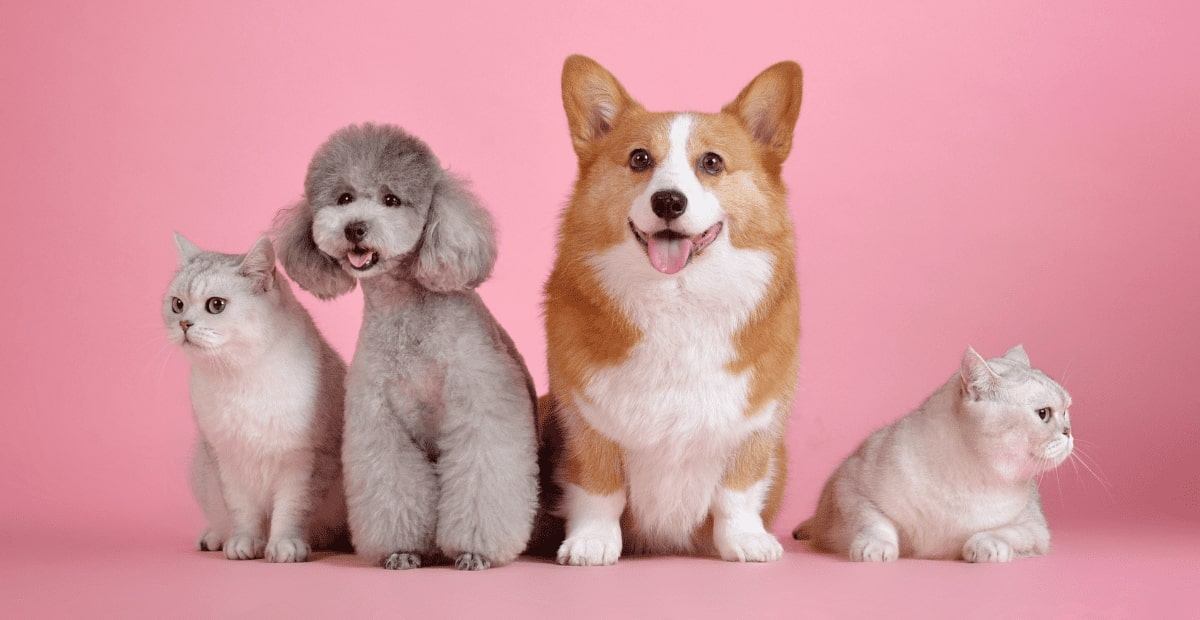anjing: (536, 26, 821, 580), (275, 89, 546, 580)
kucing: (836, 327, 1094, 578), (129, 235, 309, 585)
